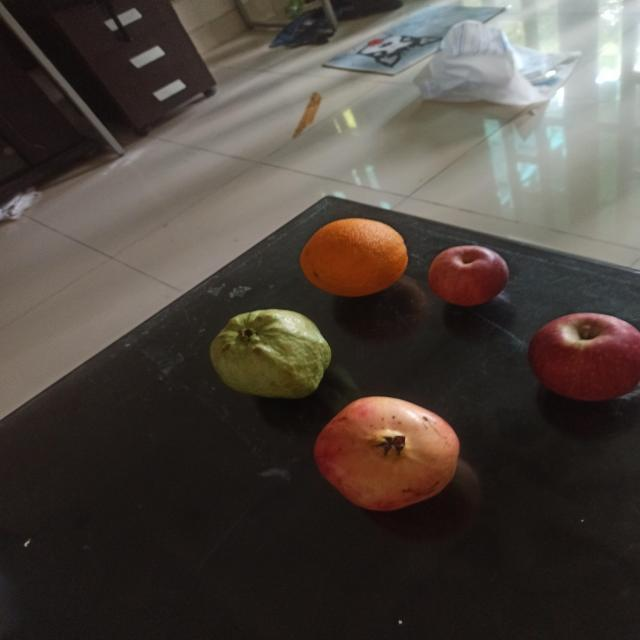apple: (528, 312, 640, 401), (428, 244, 510, 306)
